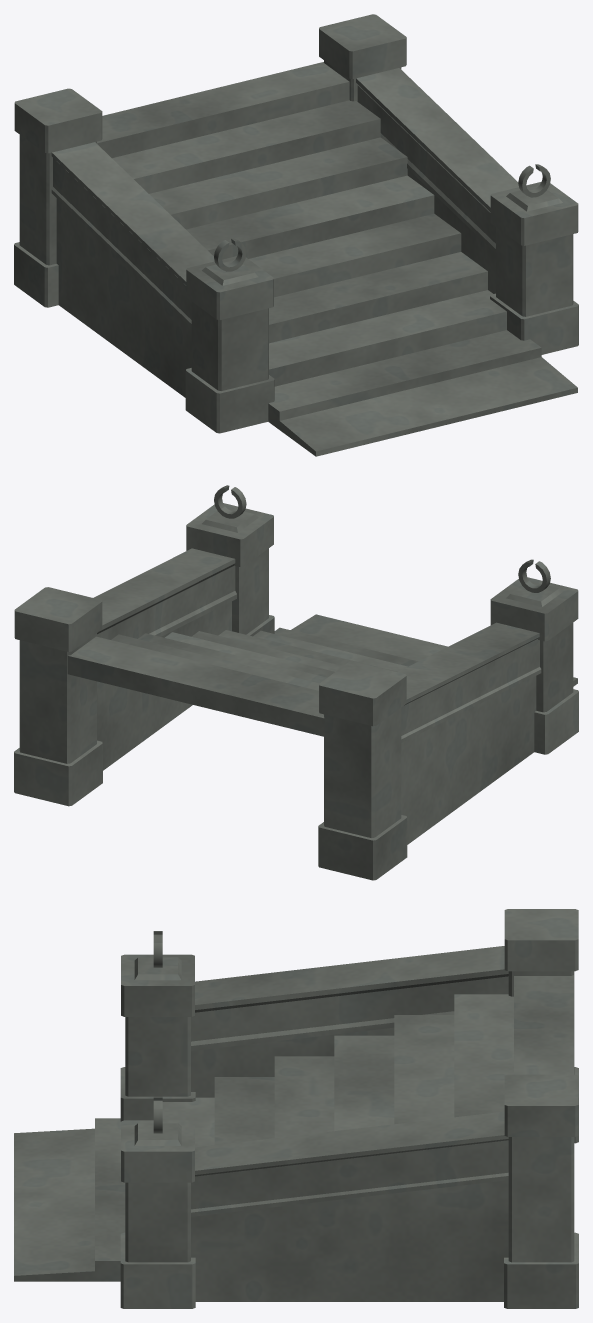
The model's file is Stairs.fbx.
The picture shows the model from 3 angles, top to bottom: view 1: azimuth 30°, elevation 25°; view 2: azimuth 150°, elevation 25°; view 3: azimuth 270°, elevation 25°; orthographic projection. The views are drawn at different scales.
Parts seen in each view (by area): view 1: Stairs.001; view 2: Stairs.001; view 3: Stairs.001.
Boxes of the visible parts, x1,y1,x2,y2 form: Stairs.001: (14, 14, 578, 456); Stairs.001: (14, 485, 578, 880); Stairs.001: (14, 909, 578, 1308).
Bounding box in the file's own units: 6.24 × 2.99 × 7.55.
Materials: 1 (1 with a texture image).
